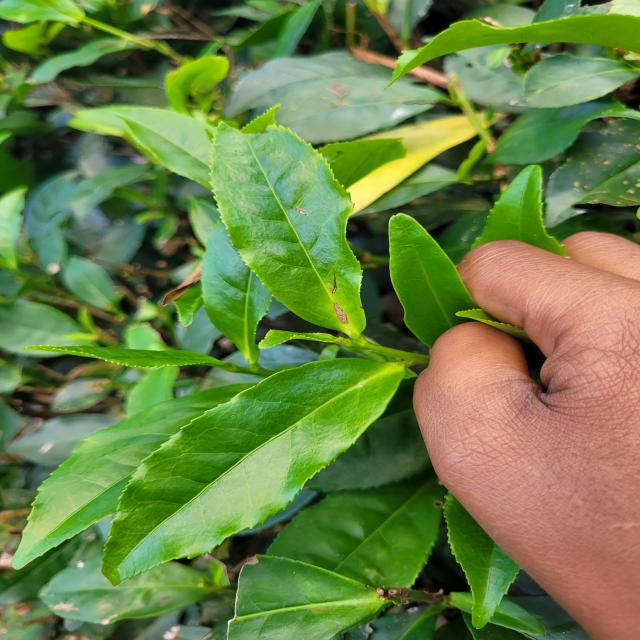Catagory A(1-2 days): (203, 114, 381, 340)
